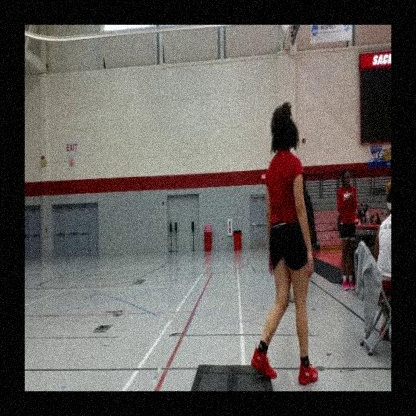lateral_flexion_right: (248, 93, 319, 391)
stance_width_broad: (248, 143, 319, 391)
